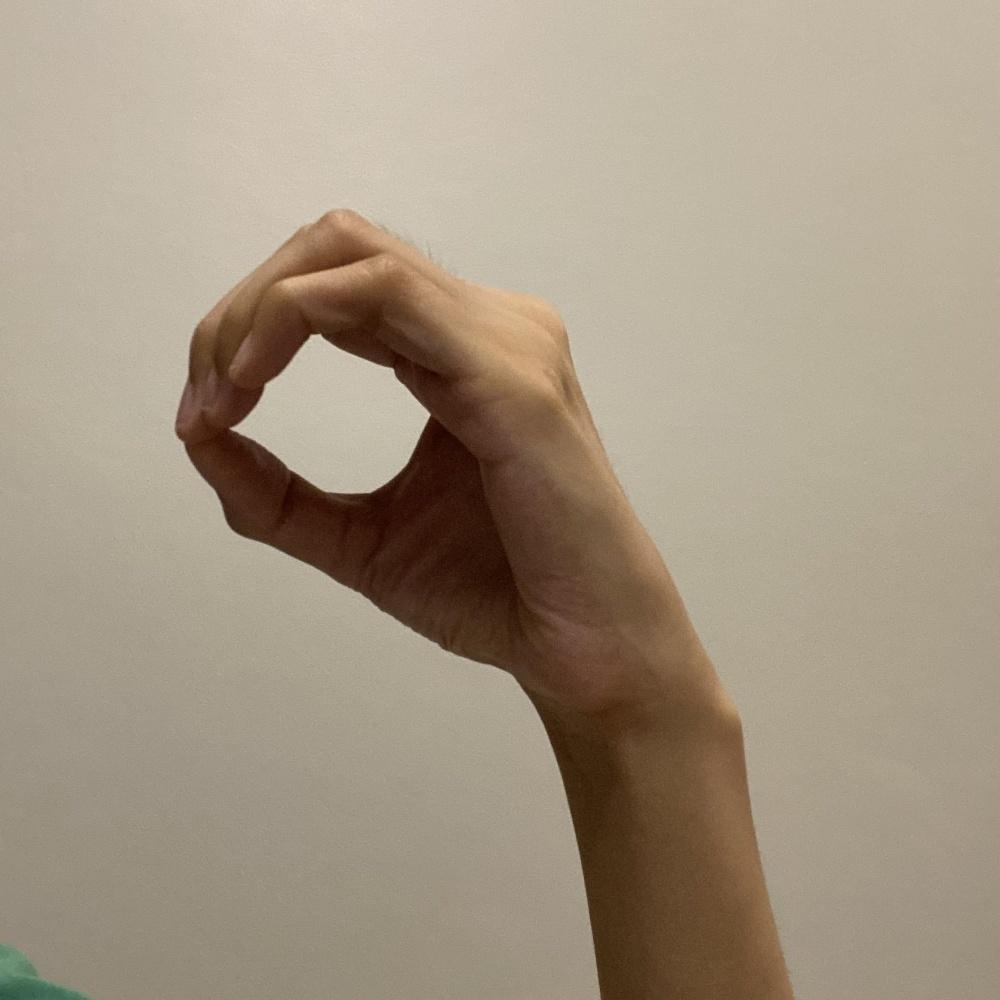o: (169, 203, 688, 700)
